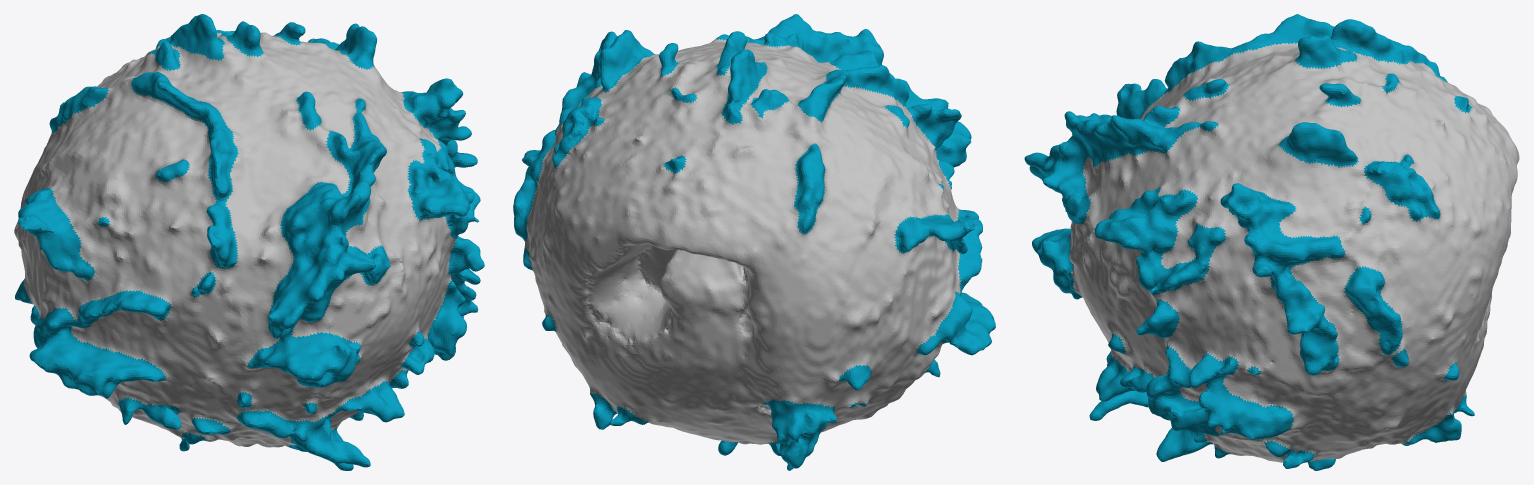
3 views of the same model, side by side, from view 1: azimuth 30°, elevation 25°; view 2: azimuth 150°, elevation 25°; view 3: azimuth 270°, elevation 25° (orthographic). The views are drawn at different scales.
Size of the model in its own units: 168 by 149 by 154.
